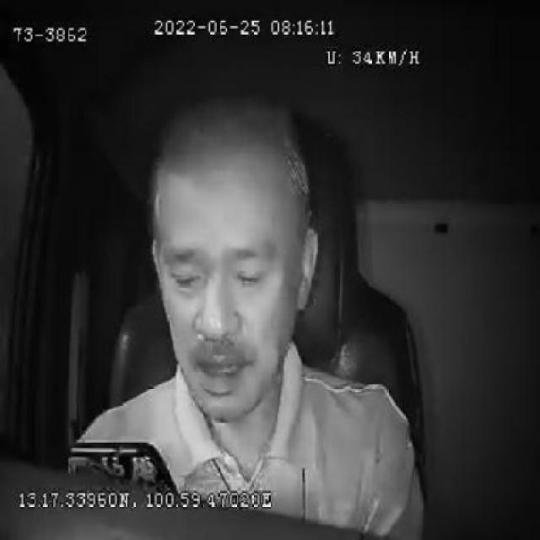phone: (66, 444, 180, 491)
